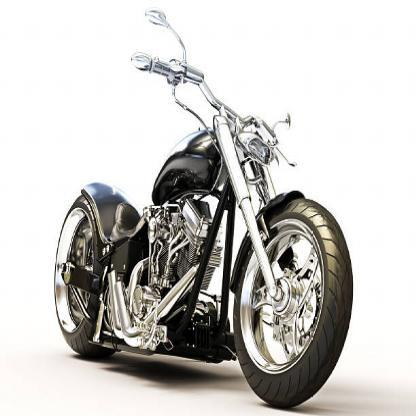Motorcycle: (43, 5, 355, 415)
